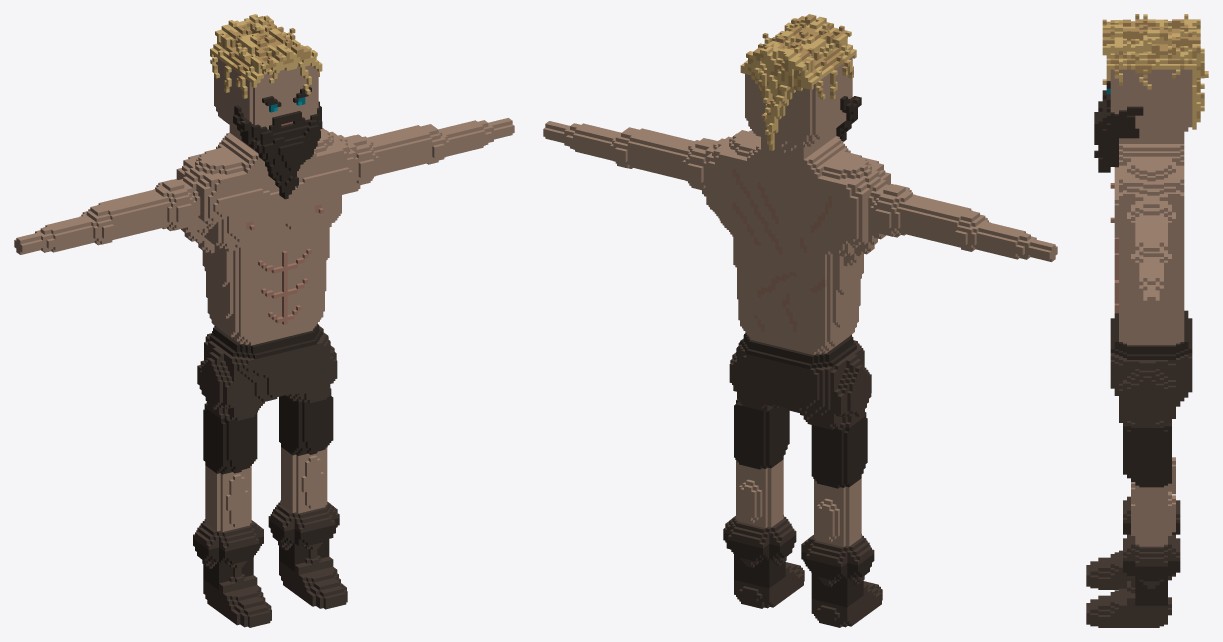
Rendered from Viking.obj.
3 views of the same model, side by side, from view 1: azimuth 30°, elevation 25°; view 2: azimuth 150°, elevation 25°; view 3: azimuth 270°, elevation 25° (orthographic). The views are drawn at different scales.
Bounding box in the file's own units: 14.3 × 15.6 × 3.
Materials: 1 (1 with a texture image).
